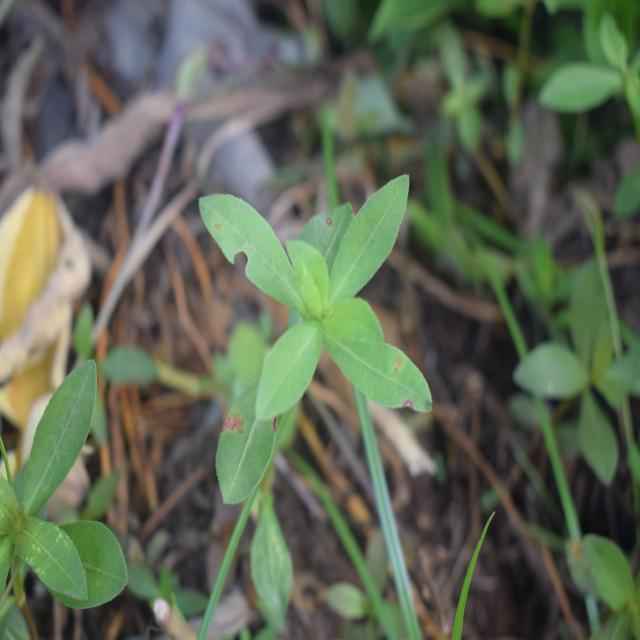Alligatorweed: (177, 171, 455, 457)
